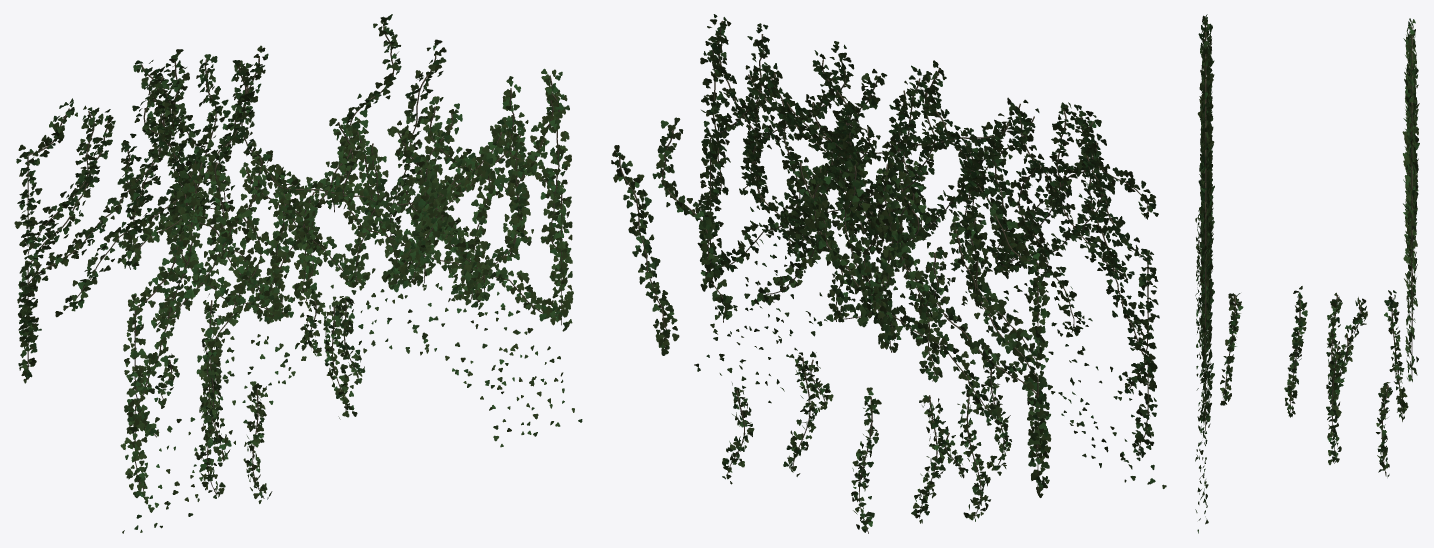
The model's file is ER_Rideau_Lierre_Arc_Profond_4m5.gltf.
The picture shows the model from 3 angles, left to right: view 1: azimuth 30°, elevation 25°; view 2: azimuth 150°, elevation 25°; view 3: azimuth 270°, elevation 25°; orthographic projection. The views are drawn at different scales.
Parts seen in each view (by area): view 1: ER_Rideau_Lierre_Arc_Profond_4m5_FEU.001, ER_Rideau_Lierre_Arc_Profond_4m5_TIG.001; view 2: ER_Rideau_Lierre_Arc_Profond_4m5_FEU.001, ER_Rideau_Lierre_Arc_Profond_4m5_TIG.001; view 3: ER_Rideau_Lierre_Arc_Profond_4m5_FEU.001, ER_Rideau_Lierre_Arc_Profond_4m5_TIG.001.
Part boxes in pixels (left/top/right/bottom): ER_Rideau_Lierre_Arc_Profond_4m5_FEU.001: left=14, top=14, right=582, bottom=533; ER_Rideau_Lierre_Arc_Profond_4m5_TIG.001: left=27, top=23, right=562, bottom=499; ER_Rideau_Lierre_Arc_Profond_4m5_FEU.001: left=611, top=14, right=1166, bottom=532; ER_Rideau_Lierre_Arc_Profond_4m5_TIG.001: left=619, top=21, right=1148, bottom=533; ER_Rideau_Lierre_Arc_Profond_4m5_FEU.001: left=1195, top=14, right=1419, bottom=533; ER_Rideau_Lierre_Arc_Profond_4m5_TIG.001: left=1205, top=26, right=1412, bottom=474.
Size of the model in its own units: 4.84 by 4.02 by 2.14.
